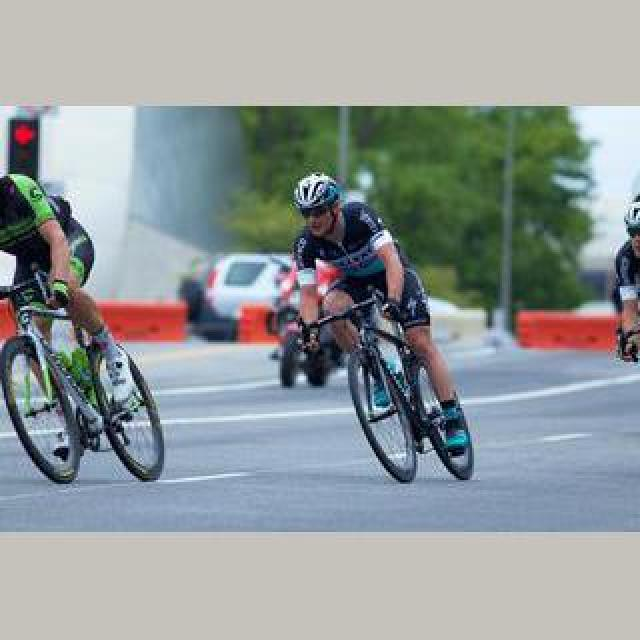MC-Bike: (280, 174, 468, 440), (0, 170, 102, 426)
Person: (0, 274, 164, 486), (320, 286, 476, 484)
